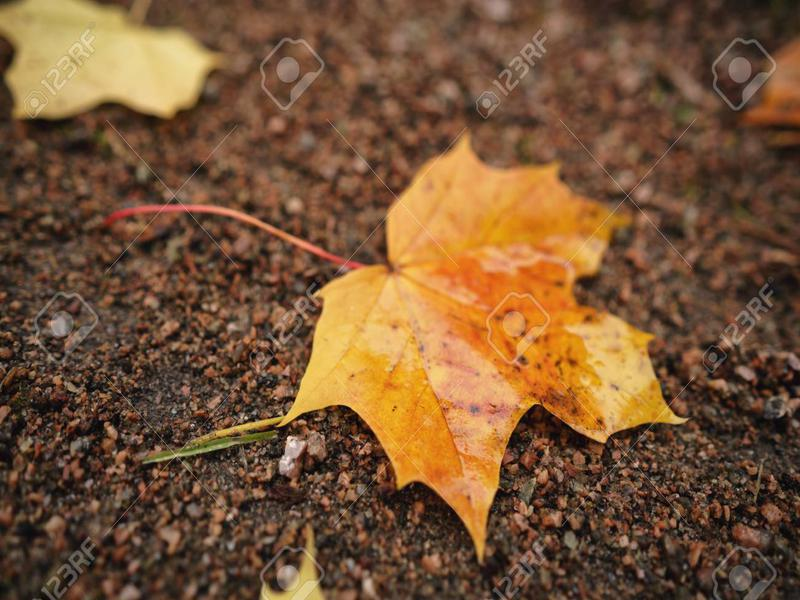leaf: (98, 121, 695, 566)
